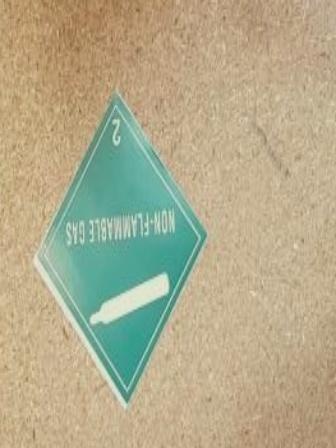non-flammable-gas: (34, 91, 206, 405)
